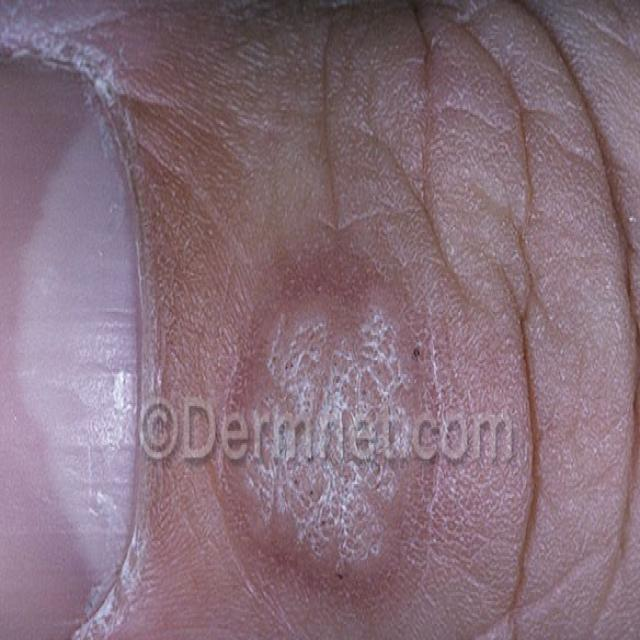Warts: (192, 235, 504, 639)
